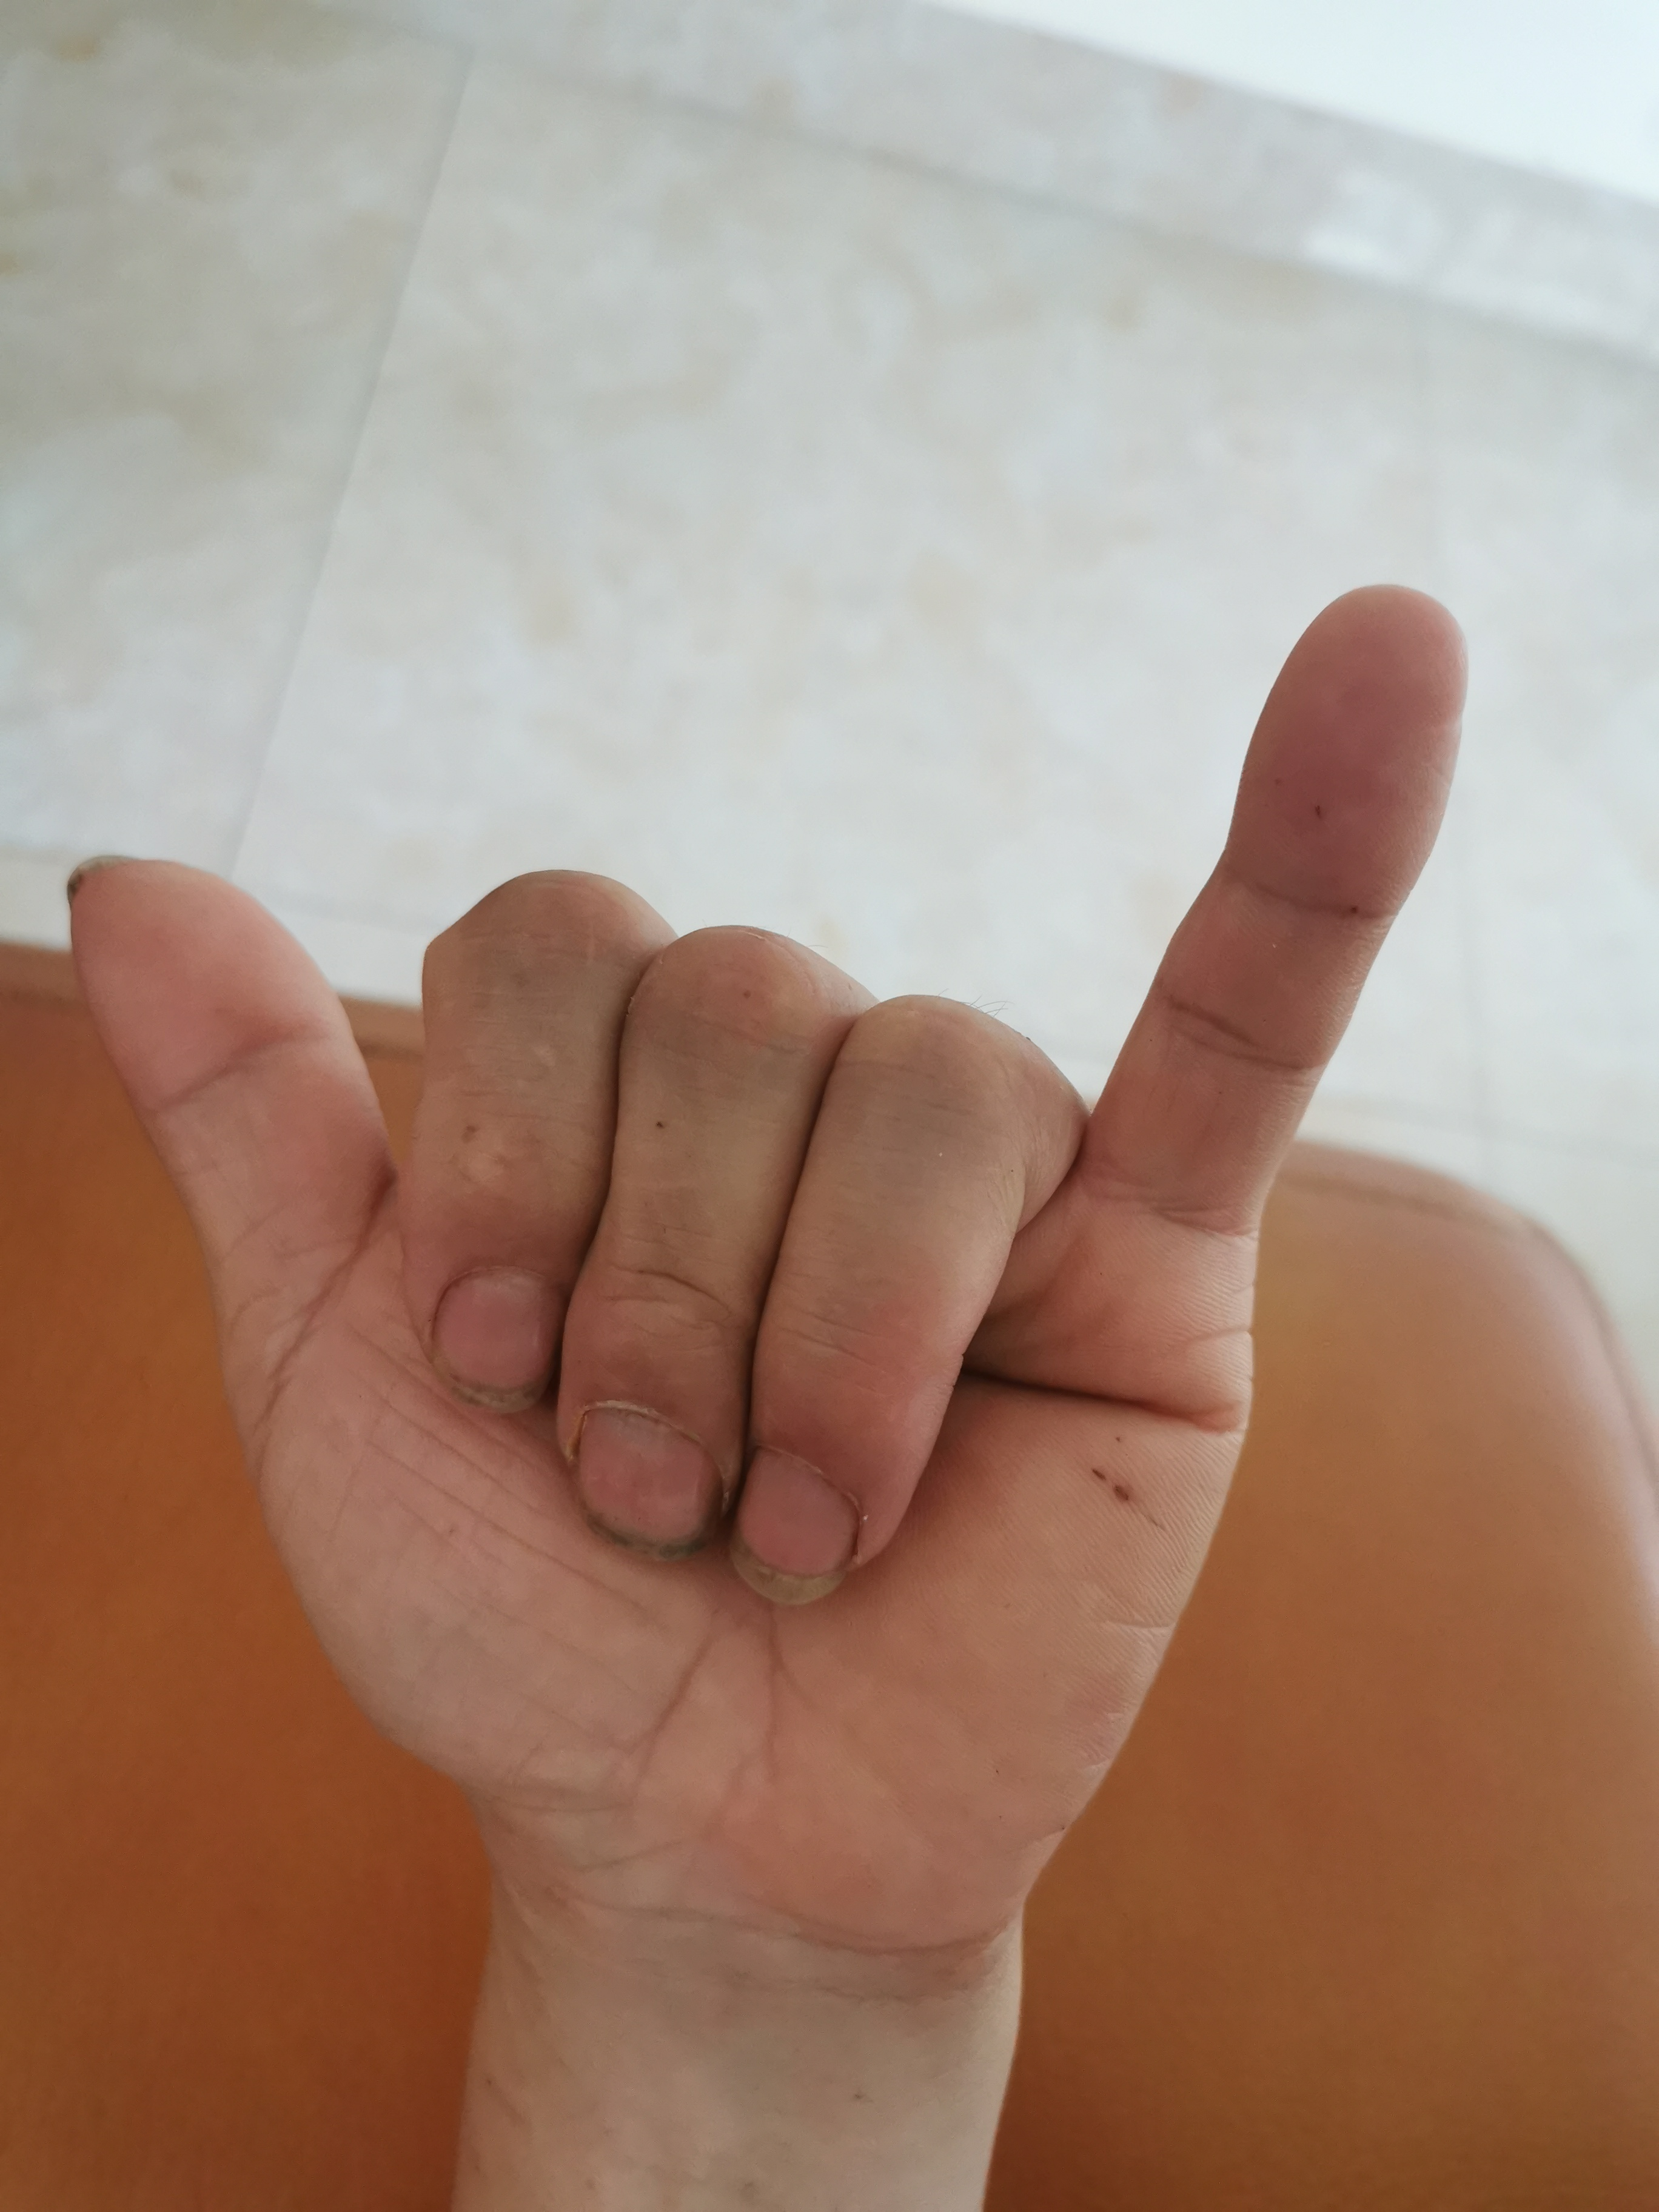clockwise: (70, 573, 1500, 1940)
